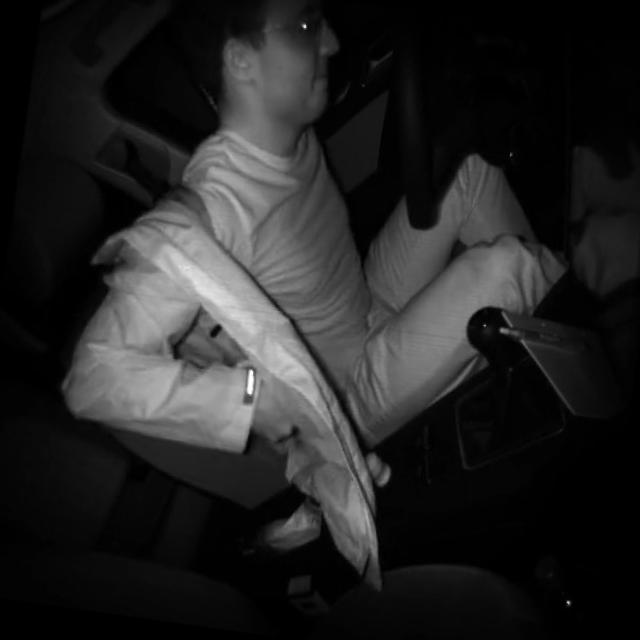pen: (496, 324, 597, 353)
